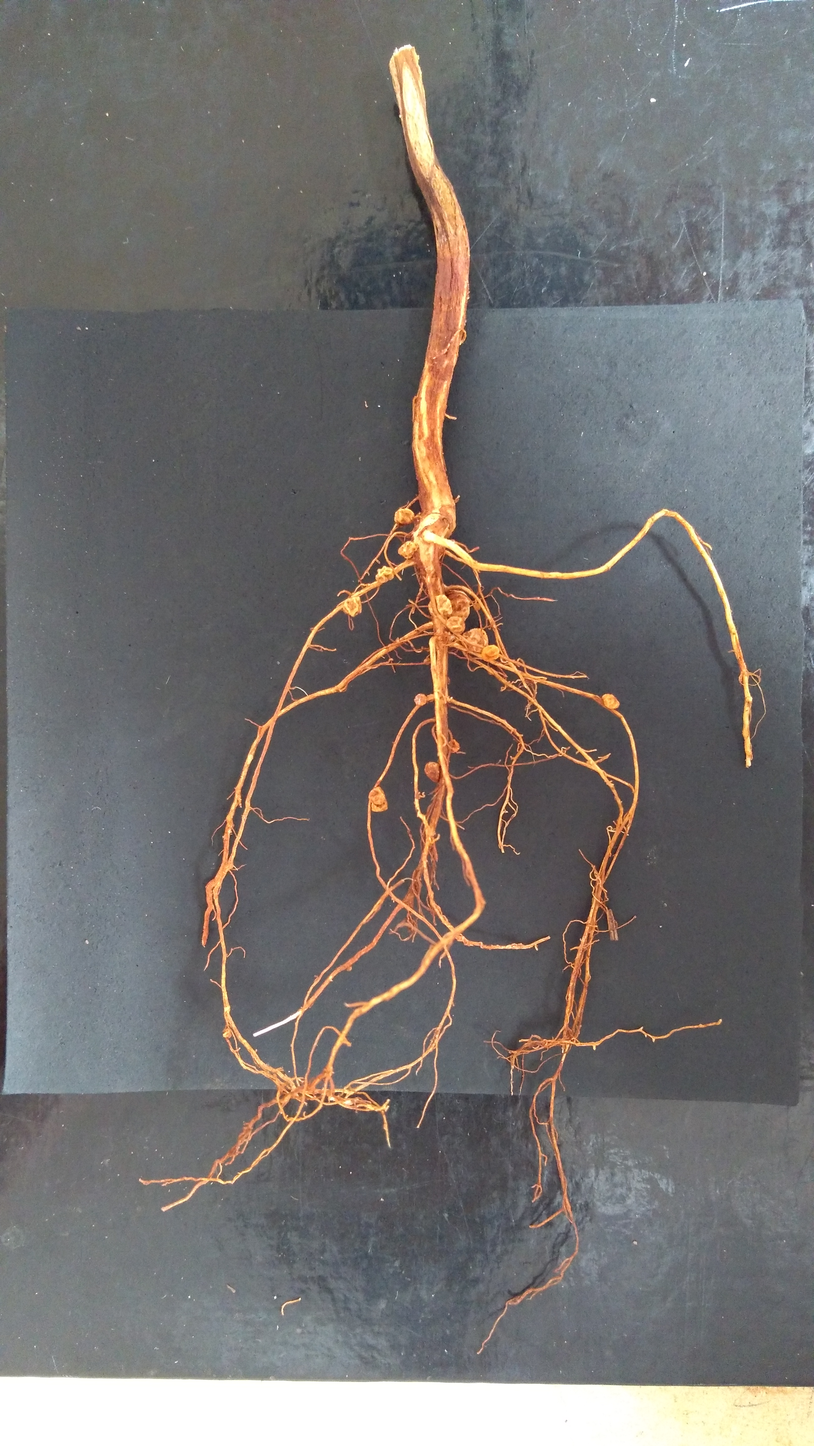nodule: (446, 590, 469, 621), (461, 628, 488, 653), (428, 595, 452, 617), (368, 786, 388, 812), (394, 508, 414, 527), (398, 541, 419, 559), (343, 597, 361, 617), (446, 616, 465, 634), (375, 566, 394, 583), (424, 762, 439, 783), (482, 645, 500, 662), (447, 631, 460, 654), (602, 693, 619, 709), (447, 739, 459, 753), (414, 693, 426, 706), (739, 669, 749, 682), (223, 1029, 232, 1038), (473, 603, 481, 611), (424, 657, 431, 665), (346, 966, 352, 971)
